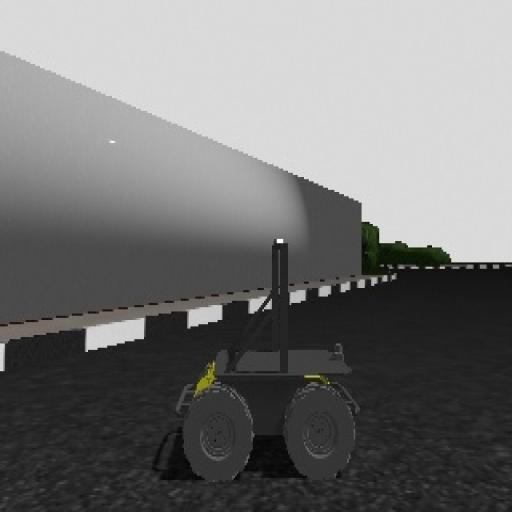huskya200: (165, 237, 383, 482)
